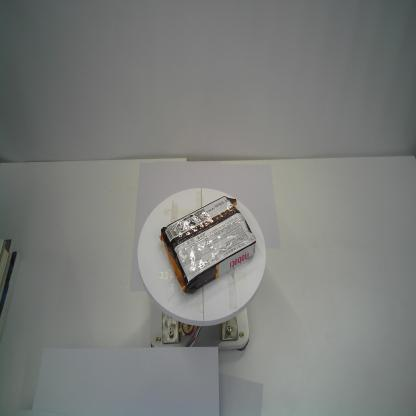Dessert: (156, 195, 258, 296)
